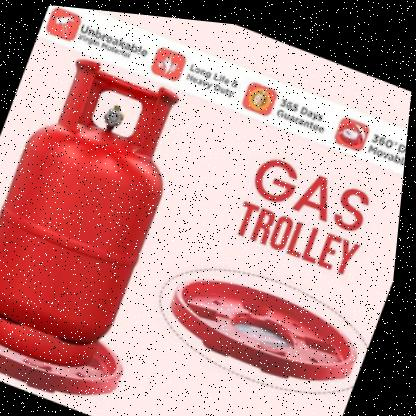gas-tank: (0, 28, 230, 380)
